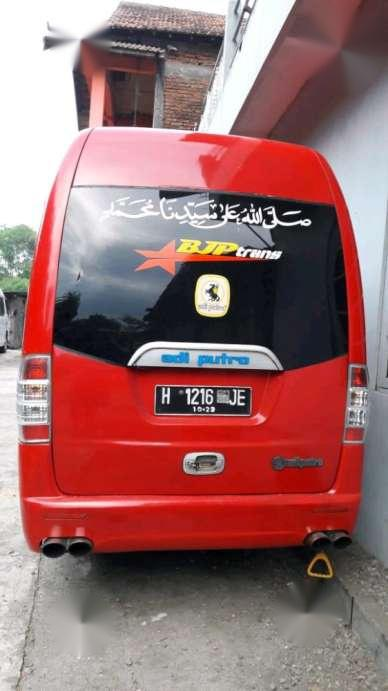plate: (156, 385, 252, 419)
